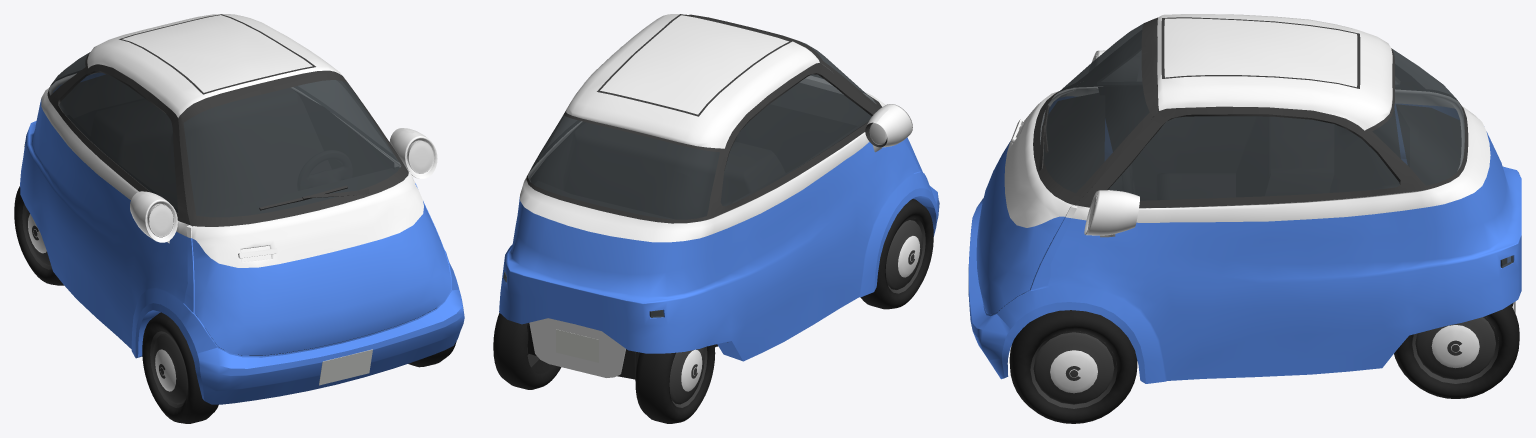
3 views of the same model, side by side, from view 1: azimuth 30°, elevation 25°; view 2: azimuth 150°, elevation 25°; view 3: azimuth 270°, elevation 25° (orthographic). The views are drawn at different scales.
Visible parts, largest first — view 1: body, glass, wheel_FL, wheel_RL; view 2: body, glass, wheel_RL, wheel_FL, wheel_RR; view 3: body, glass, wheel_FR, wheel_RR.
Boxes of the visible parts, box(x1,y1,x2,y2) form: body: box(20, 14, 464, 404); glass: box(24, 52, 401, 217); wheel_FL: box(142, 312, 223, 423); wheel_RL: box(14, 186, 63, 285); body: box(499, 14, 939, 379); glass: box(503, 41, 876, 317); wheel_RL: box(635, 344, 715, 423); wheel_FL: box(860, 198, 933, 309); wheel_RR: box(493, 313, 561, 389); body: box(968, 14, 1521, 383); glass: box(1040, 23, 1513, 268); wheel_FR: box(1009, 310, 1137, 423); wheel_RR: box(1394, 304, 1519, 398).
Bounding box in the file's own units: 1.48 × 1.38 × 2.21.
